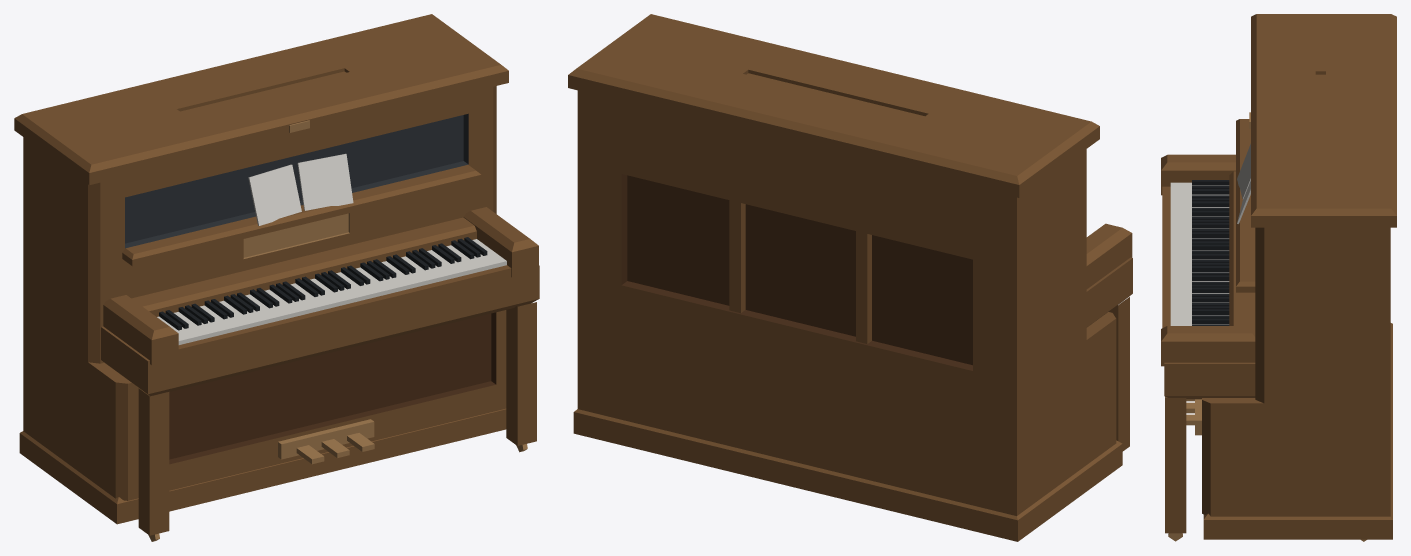
File: upright-piano-c0b0ef.glb
3 views of the same model, side by side, from view 1: azimuth 30°, elevation 25°; view 2: azimuth 150°, elevation 25°; view 3: azimuth 270°, elevation 25° (orthographic). The views are drawn at different scales.
Parts seen in each view (by area): view 1: upright-piano, lid, score; view 2: upright-piano, lid; view 3: upright-piano, lid, score.
Part boxes in pixels (box(x1,y1,x2,y2)): upright-piano: box(19, 86, 539, 541); lid: box(14, 14, 508, 185); score: box(248, 153, 353, 225); upright-piano: box(573, 90, 1132, 541); lid: box(568, 14, 1099, 197); upright-piano: box(1161, 119, 1392, 541); lid: box(1249, 14, 1396, 227); score: box(1237, 143, 1250, 223).
Bounding box in the file's own units: 1.5 × 1.2 × 0.75.
